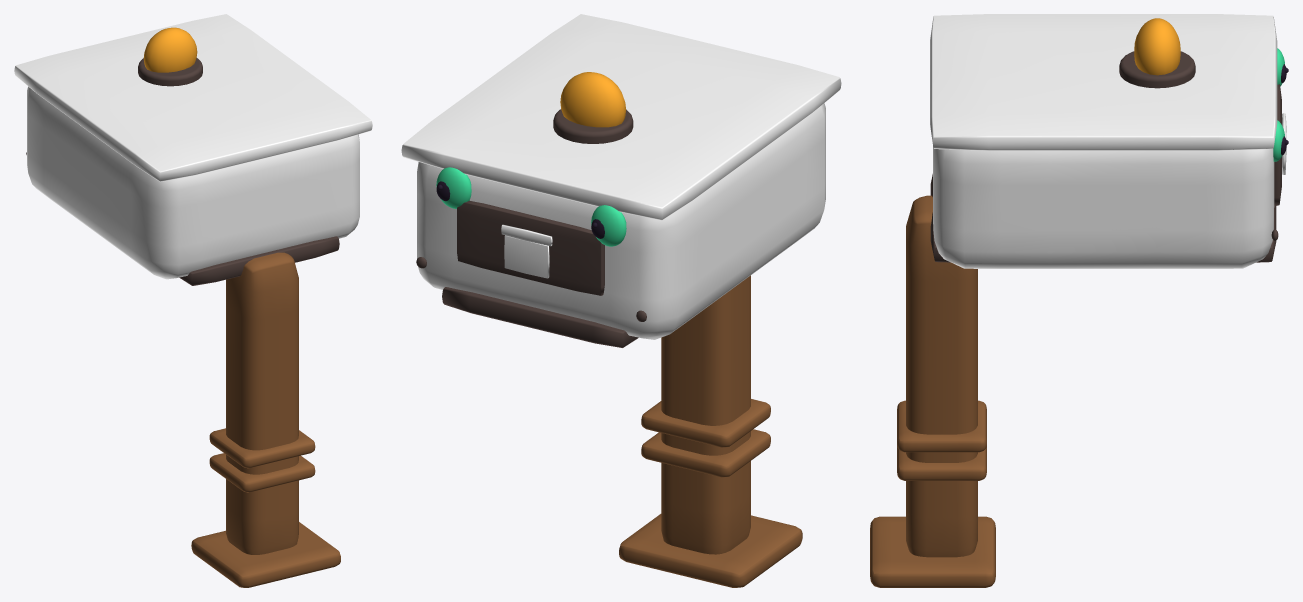
Rendered from CakeBoxer.obj.
3 views of the same model, side by side, from view 1: azimuth 30°, elevation 25°; view 2: azimuth 150°, elevation 25°; view 3: azimuth 270°, elevation 25° (orthographic). The views are drawn at different scales.
Visible parts, largest first — view 1: Stripe, Body, Frame, Trim, Lamp; view 2: Stripe, Body, Frame, Trim, Lamp, Icon, Eyes; view 3: Stripe, Body, Frame, Trim, Lamp.
Boxes of the visible parts, x1,y1,x2,y2 form: Stripe: (14,14,372,181); Body: (27,86,359,279); Frame: (191,252,340,587); Trim: (26,58,339,285); Lamp: (143,27,197,72); Stripe: (401,14,841,220); Body: (417,103,825,339); Frame: (619,275,802,587); Trim: (416,109,646,347); Lamp: (560,72,626,127); Icon: (501,224,552,278); Eyes: (436,167,626,246); Stripe: (930,14,1277,150); Body: (933,147,1274,268); Frame: (870,195,995,587); Trim: (930,51,1281,262); Lamp: (1134,18,1180,75).
Size of the model in its own units: 6.54 by 13.3 by 9.33.
